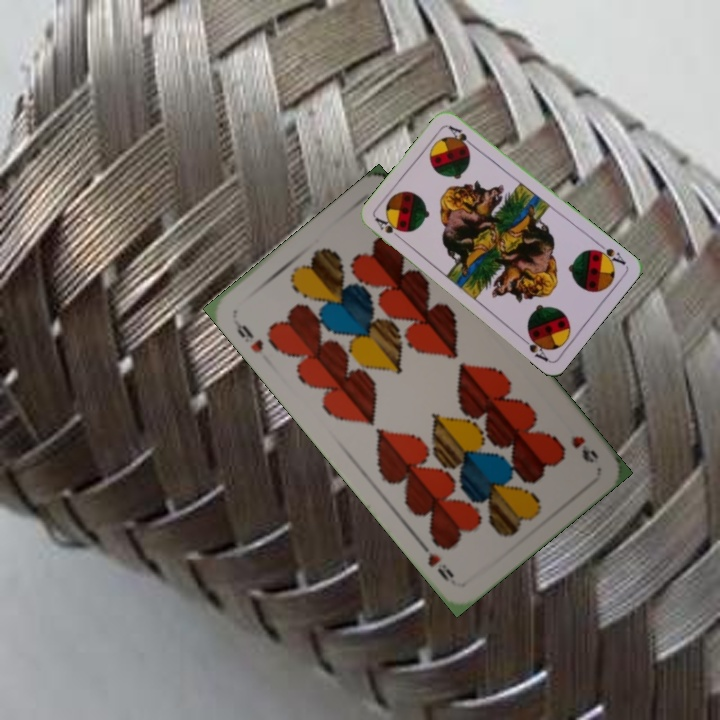H9: (229, 315, 266, 356), (567, 431, 601, 466)
SA: (590, 239, 629, 268), (371, 214, 406, 244)
